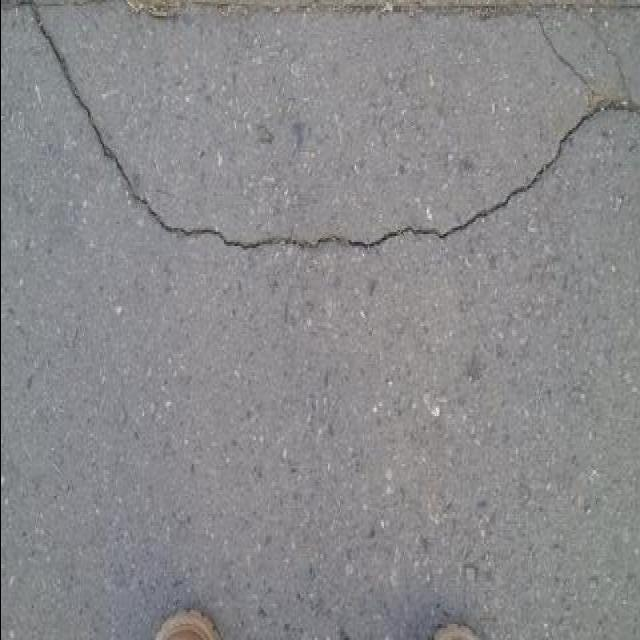Crack: (22, 0, 638, 251)
